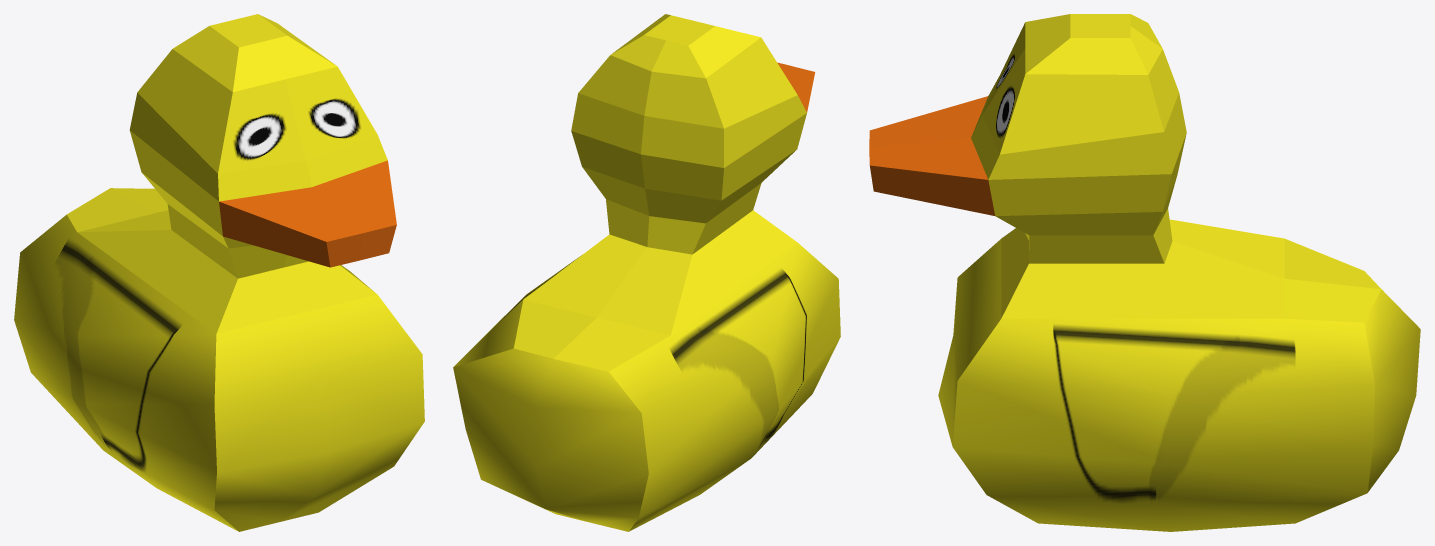
Rendered from Pato.FBX.
3 renders of one model, left to right at view 1: azimuth 30°, elevation 25°; view 2: azimuth 150°, elevation 25°; view 3: azimuth 270°, elevation 25°, orthographic. The views are drawn at different scales.
Parts seen in each view (by area): view 1: Box001; view 2: Box001; view 3: Box001.
Boxes of the visible parts, x1=… form: Box001: x1=14, y1=14, x2=424, y2=531; Box001: x1=453, y1=14, x2=840, y2=531; Box001: x1=869, y1=14, x2=1420, y2=531.
Bounding box in the file's own units: 18.36 × 29.88 × 31.27.
1 material, 1 textured.
